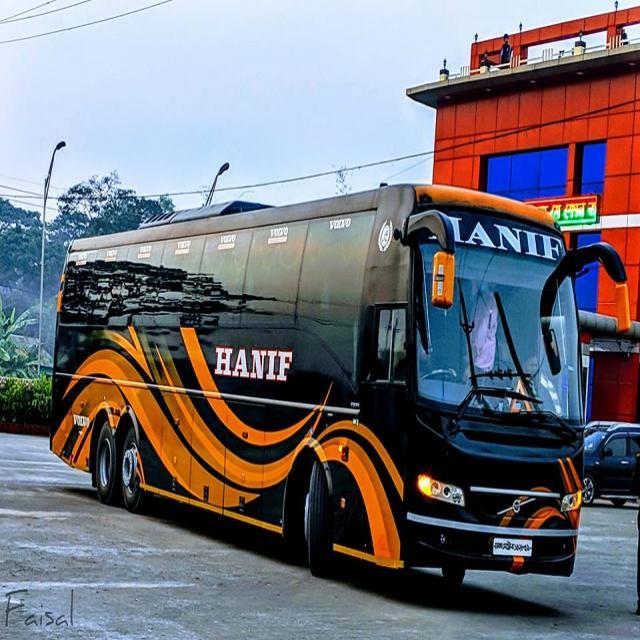Bus: (50, 185, 635, 604)
